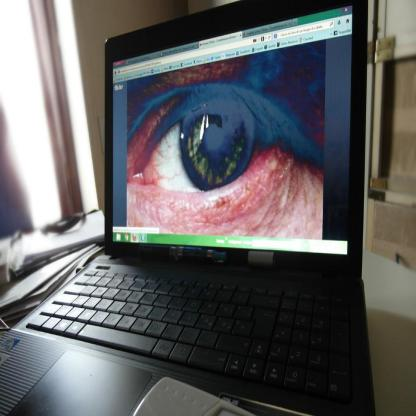board: (0, 0, 378, 416)
